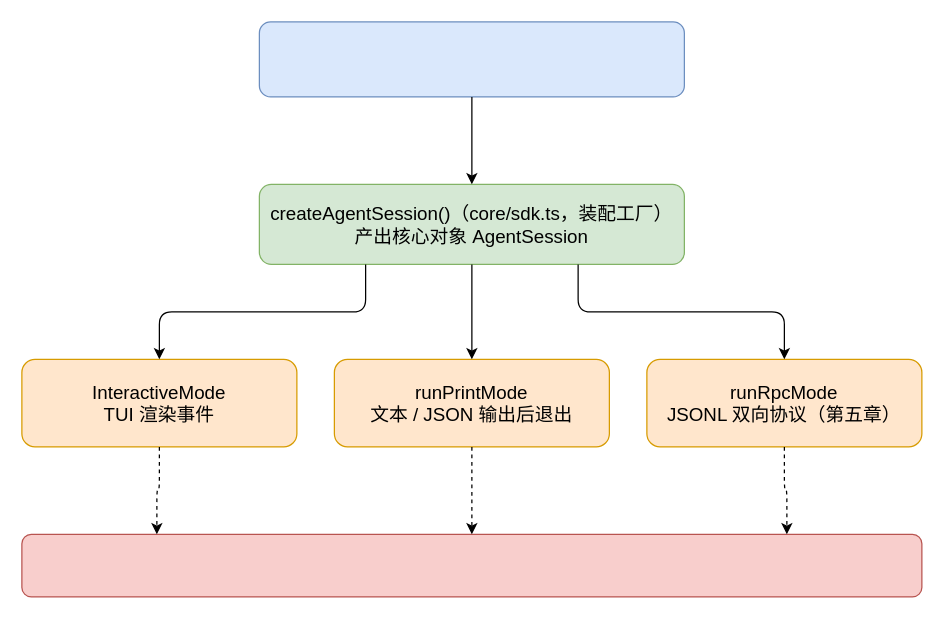
Some shapes in this 944 by 619 pixel diagram are drawn without their labels. The centre of each missing label's shape, as x and y in pixels:
"cli.ts → main.ts 参数解析 · 配置 · 信任检查" goes at point 471,59.
"全部消费同一个 AgentSession 事件流 —— 模式只是不同的 I/O 皮肤" goes at point 471,565.
